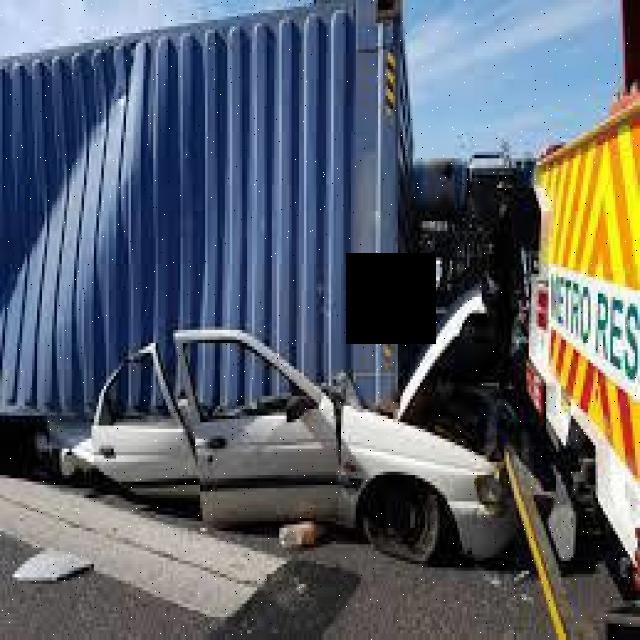severe: (2, 13, 529, 571)
